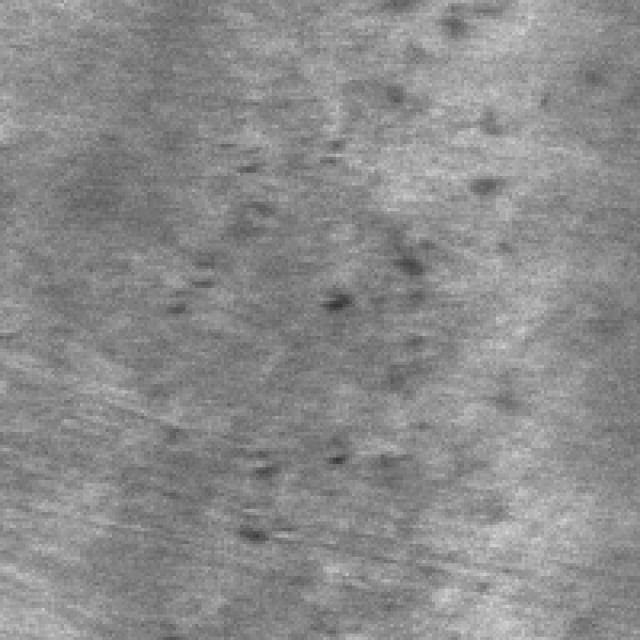rolled-in_scale: (233, 179, 444, 541)
